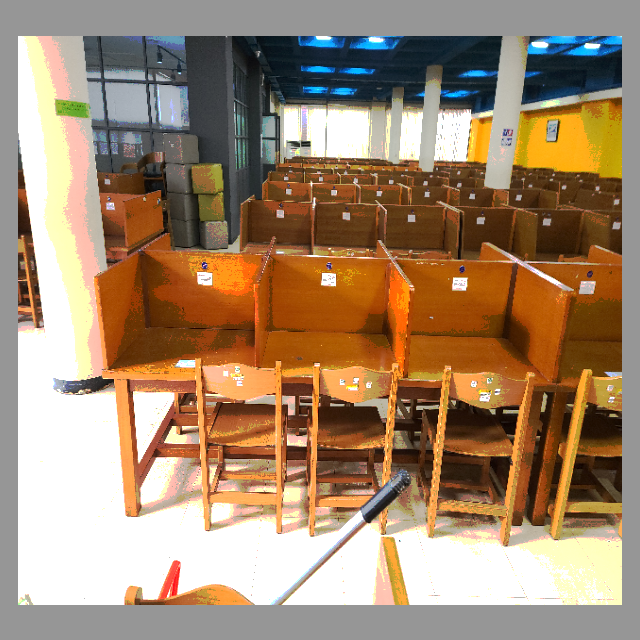empty: (410, 239, 554, 445), (105, 252, 259, 429), (263, 250, 400, 428)
